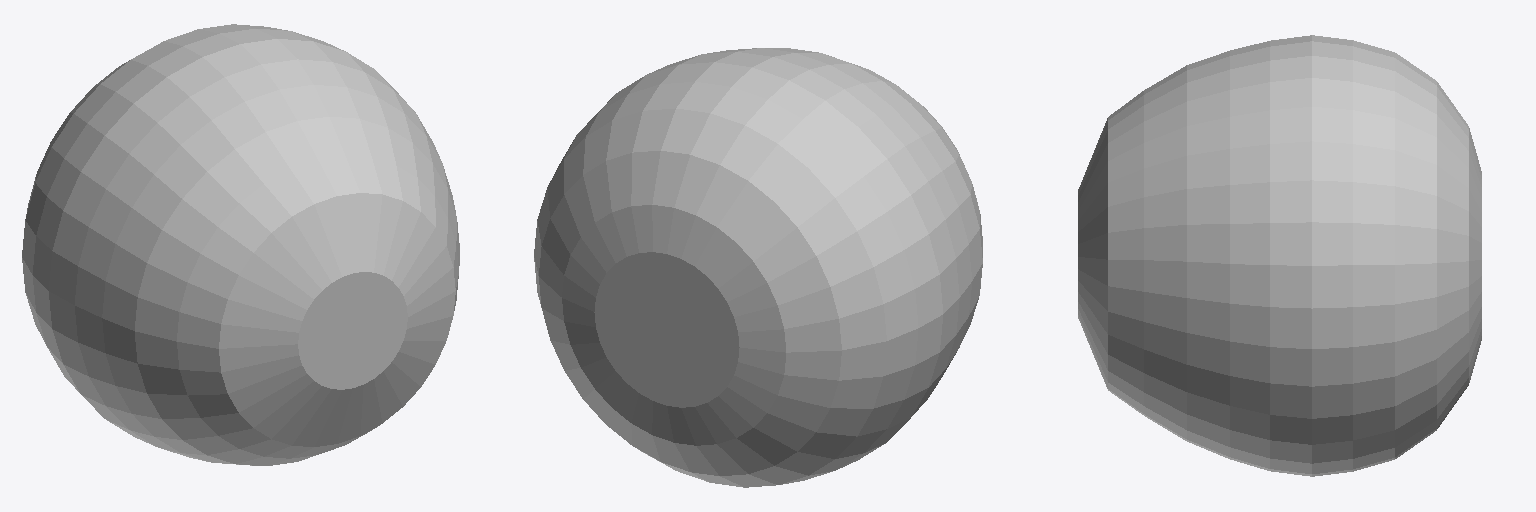
Rendered from apple.obj.
3 views of the same model, side by side, from view 1: azimuth 30°, elevation 25°; view 2: azimuth 150°, elevation 25°; view 3: azimuth 270°, elevation 25° (orthographic).
Parts seen in each view (by area): view 1: Circle; view 2: Circle; view 3: Circle.
Part boxes in pixels (x1,y1,x2,y2): Circle: (22,24,459,465); Circle: (534,48,982,487); Circle: (1078,35,1481,476).
Size of the model in its own units: 0.5374 by 0.5374 by 0.4911.